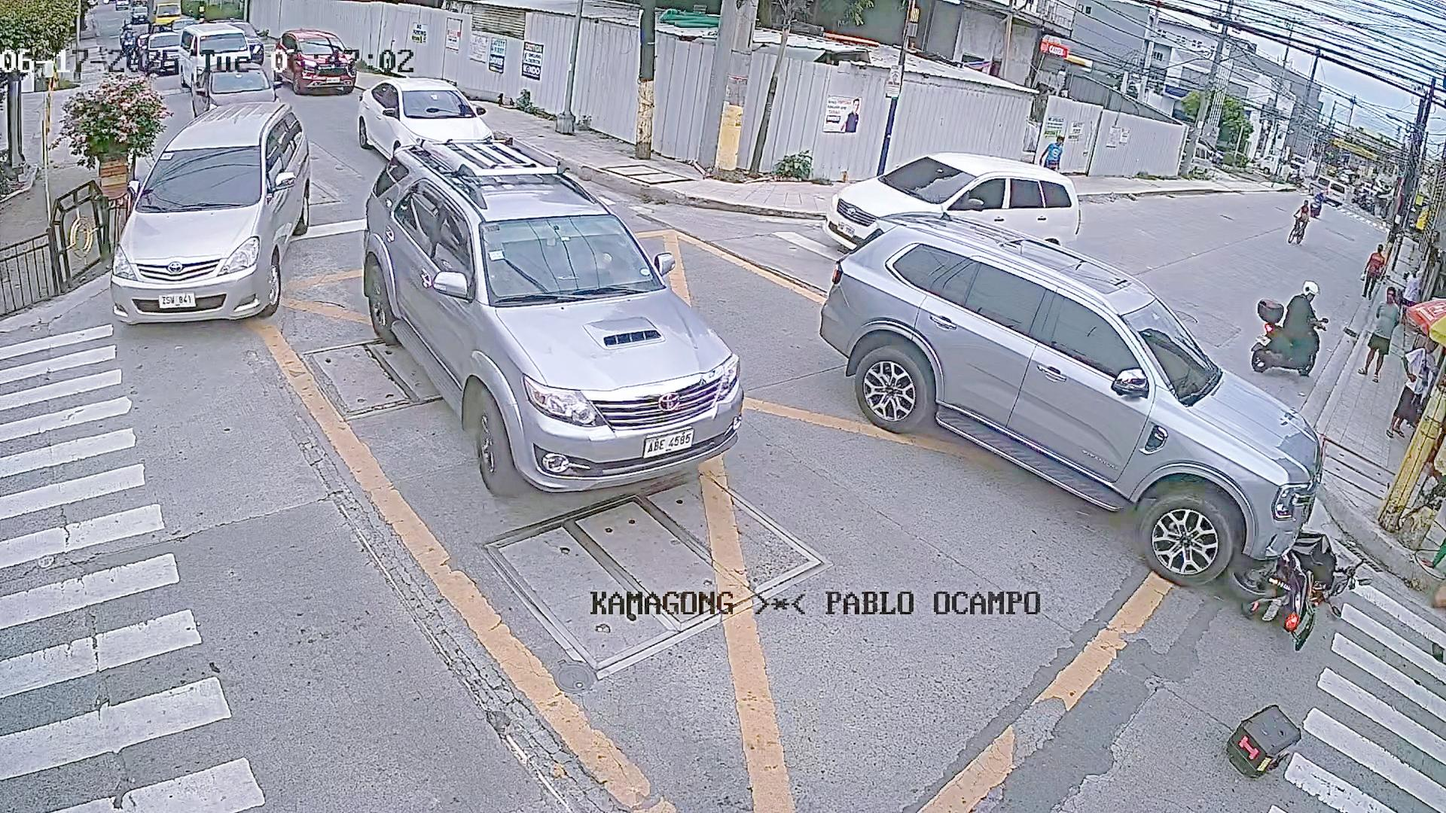Car: (801, 217, 1321, 572), (352, 139, 764, 479), (85, 95, 311, 381), (793, 149, 1127, 240), (336, 68, 521, 149)
Minor Accident: (1081, 330, 1374, 665)
Motor: (1239, 281, 1324, 384)
